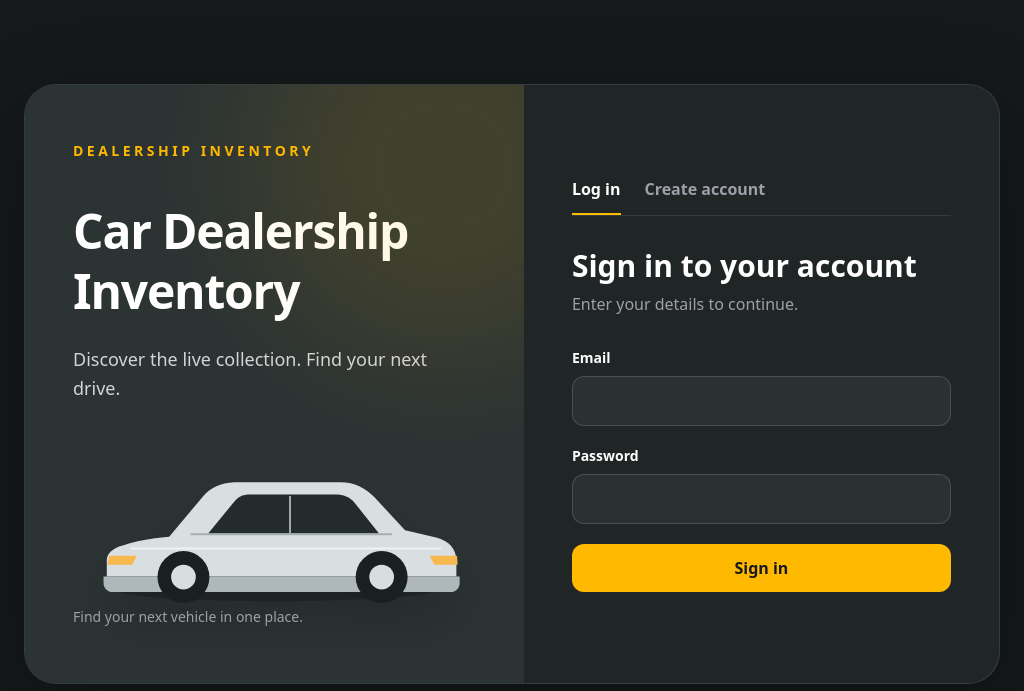
it: signs in and keeps the access token for later vehicle requests
In the field labelled "Email": x=761, y=400 [572,376,951,426], type "buyer@example.com"
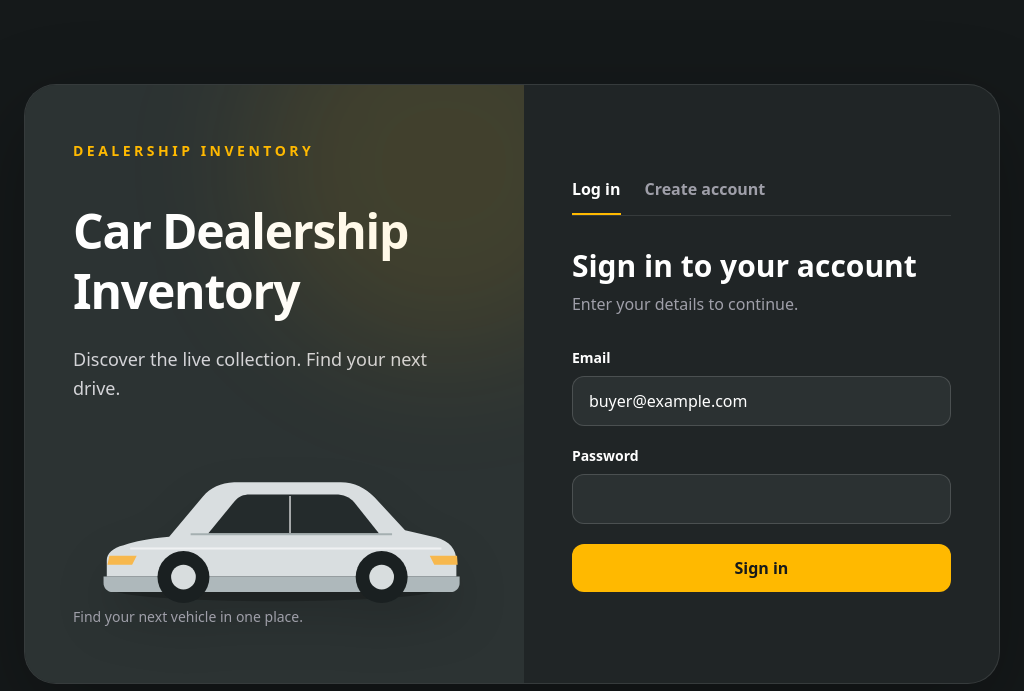
In the password field labelled "Password": x=761, y=498 [572,474,951,524], type "secret123"
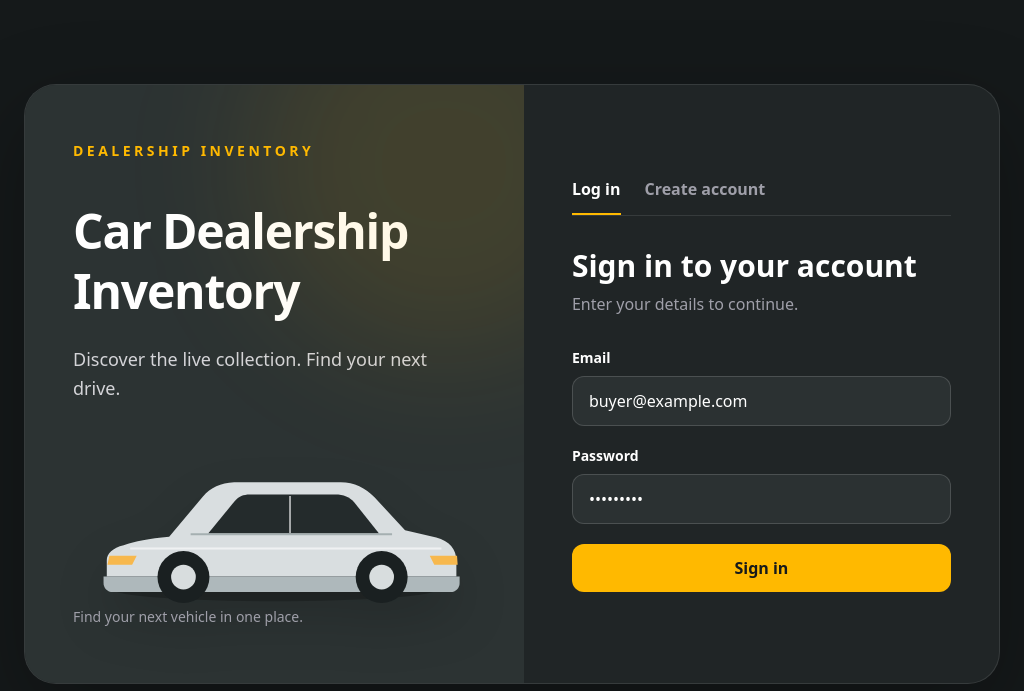
Click the button "Sign in": x=761, y=568 [572,544,951,592]
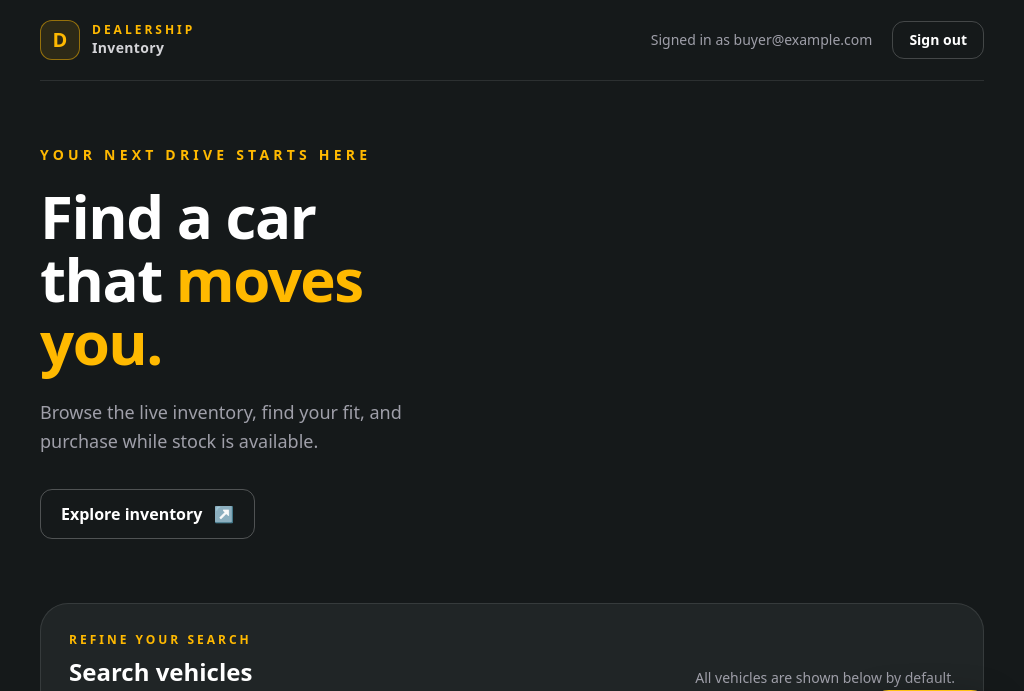
Check: the text "Signed in as buyer@example.com" is shown, box [651,30,872,50]
Check: the heading "Inventory" is shown, box [92,38,164,57]
